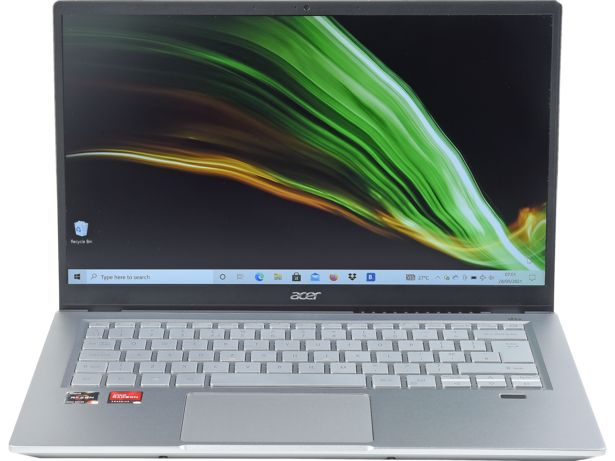laptop: (37, 8, 593, 456)
